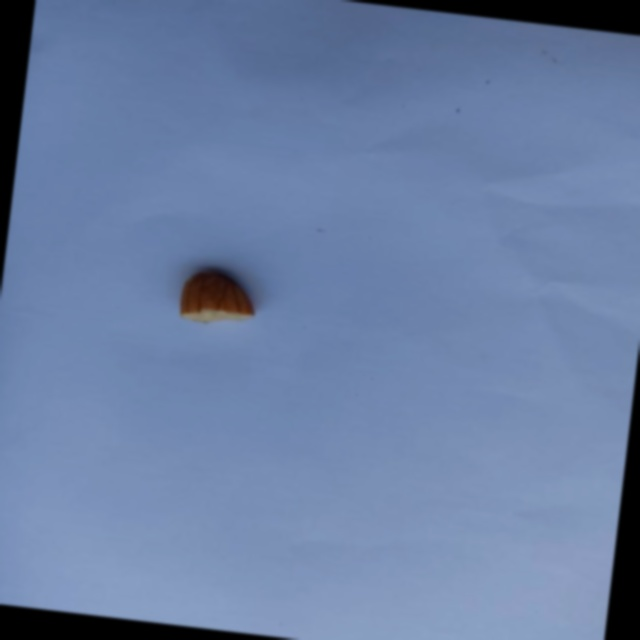grade4: (171, 261, 268, 334)
